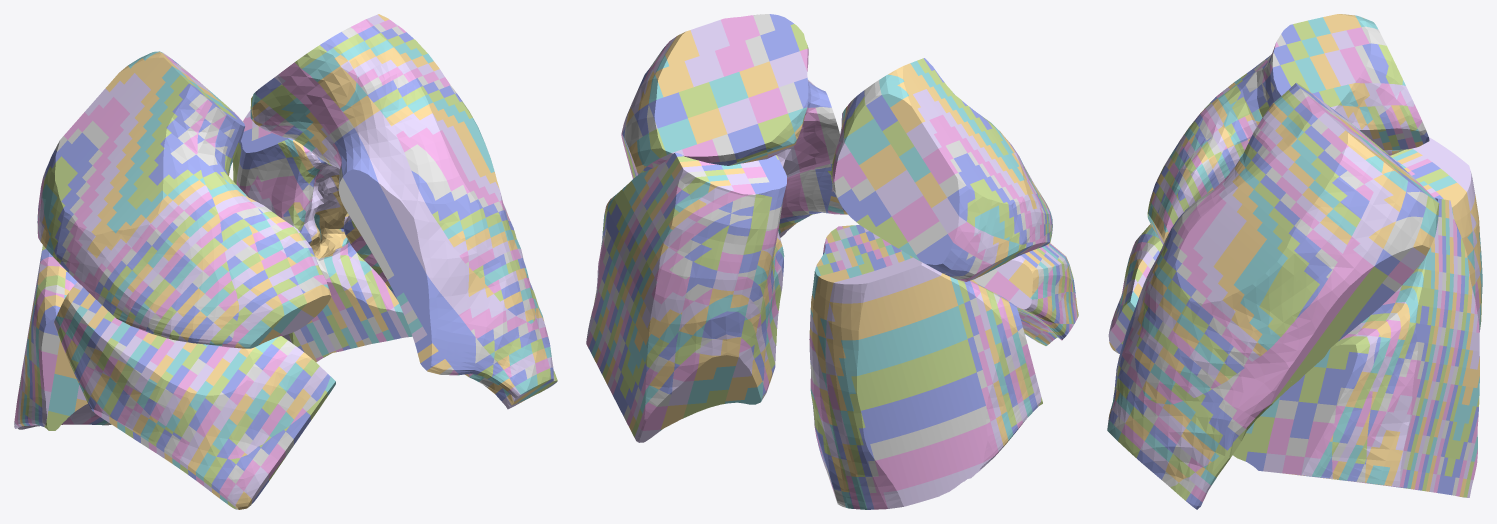
Rendered from lung-male-large.glb.
3 renders of one model, left to right at view 1: azimuth 30°, elevation 25°; view 2: azimuth 150°, elevation 25°; view 3: azimuth 270°, elevation 25°, orthographic. The views are drawn at different scales.
Visible parts, largest first — view 1: no part large enough to name; view 2: no part large enough to name; view 3: LLL-30C14.
Boxes of the visible parts, x1,y1,x2,y2 form: LLL-30C14: (1309,421,1334,441).
Size of the model in its own units: 0.2571 by 0.2254 by 0.1895.
